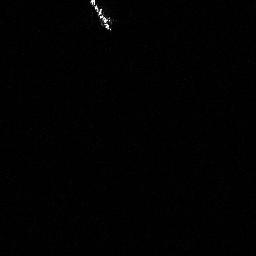ship: (87, 1, 116, 32)
